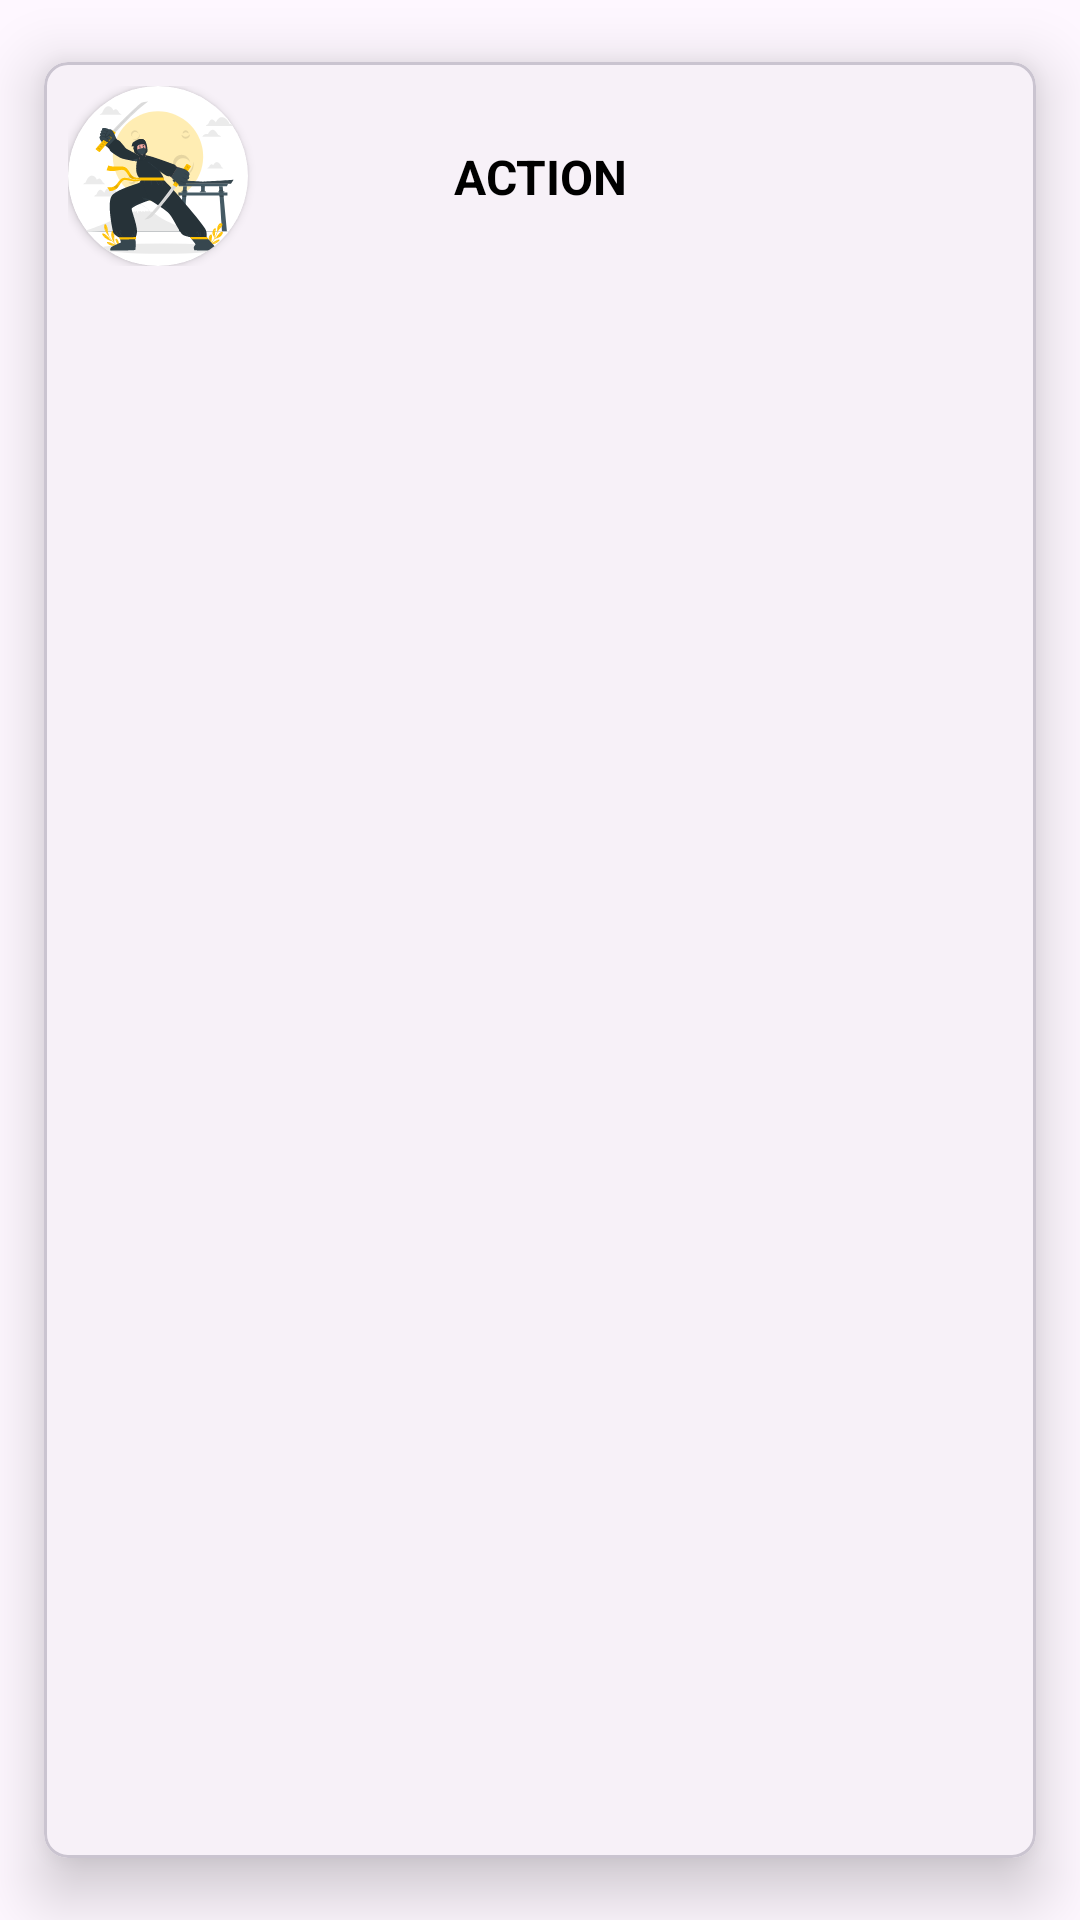

Icon click points for this 1080x1920 phone screenshot, format (x=x, y=y):
ninja: (x=158, y=176)
